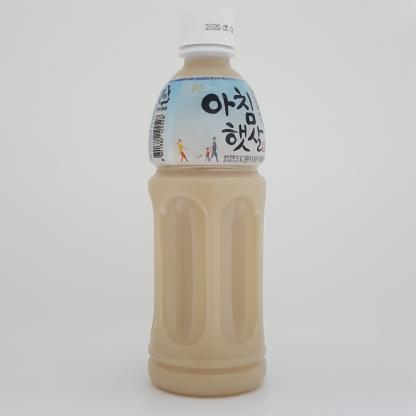------500ML: (148, 7, 266, 397)
